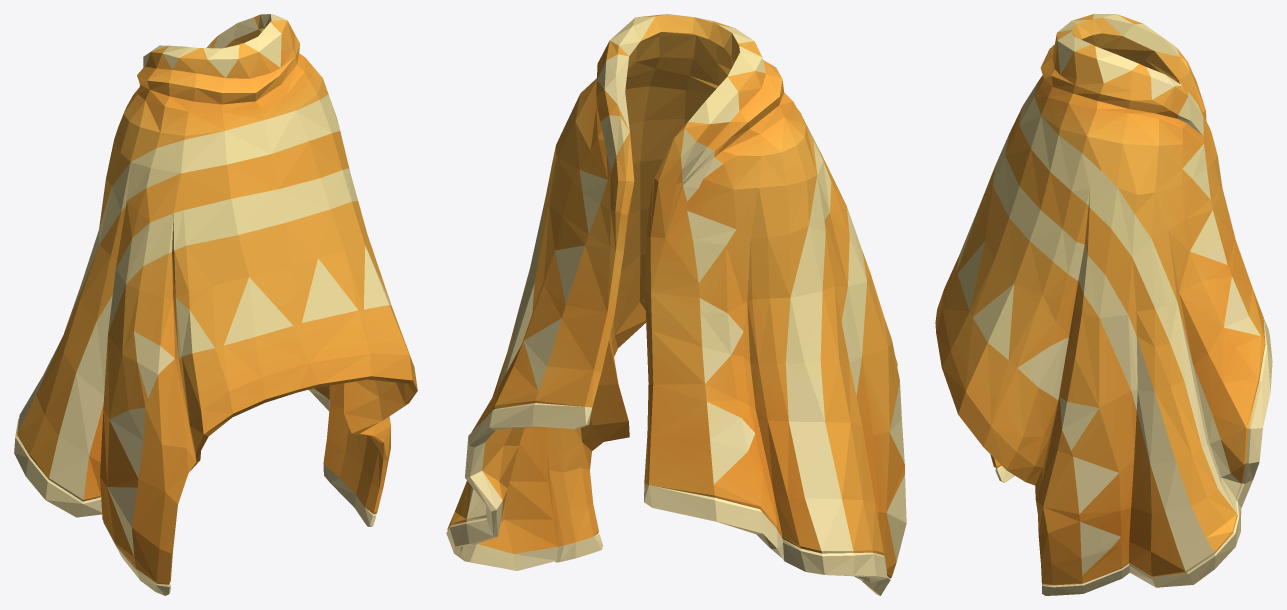
The model's file is CharSkyKid_Wing_SunlightTowelYellow.glb.
3 renders of one model, left to right at view 1: azimuth 30°, elevation 25°; view 2: azimuth 150°, elevation 25°; view 3: azimuth 270°, elevation 25°, orthographic. The views are drawn at different scales.
Visible parts, largest first — view 1: CharSkyKid_Wing_SunlightTowelYellow; view 2: CharSkyKid_Wing_SunlightTowelYellow; view 3: CharSkyKid_Wing_SunlightTowelYellow.
Boxes of the visible parts, x1,y1,x2,y2 form: CharSkyKid_Wing_SunlightTowelYellow: [14, 14, 417, 595]; CharSkyKid_Wing_SunlightTowelYellow: [446, 14, 906, 595]; CharSkyKid_Wing_SunlightTowelYellow: [935, 14, 1272, 595].
Size of the model in its own units: 6.26 by 8.79 by 5.23.
Materials: 1 (1 with a texture image).
